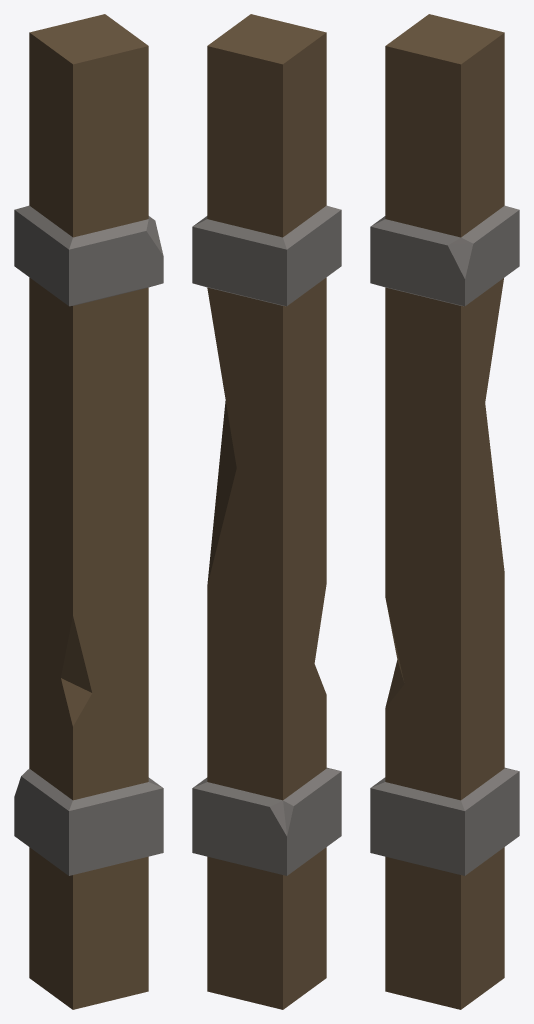
The model's file is SM_Prop_Beam_01.gltf.
The picture shows the model from 3 angles, left to right: view 1: azimuth 30°, elevation 25°; view 2: azimuth 150°, elevation 25°; view 3: azimuth 330°, elevation 25°; orthographic projection.
Parts seen in each view (by area): view 1: SM_Prop_Beam_01; view 2: SM_Prop_Beam_01; view 3: SM_Prop_Beam_01.
Boxes of the visible parts, left/top/right/bottom form: SM_Prop_Beam_01: left=14, top=14, right=163, bottom=1009; SM_Prop_Beam_01: left=192, top=14, right=341, bottom=1009; SM_Prop_Beam_01: left=370, top=14, right=519, bottom=1009.
Size of the model in its own units: 0.2608 by 2.49 by 0.2604.
Materials: 1 (1 with a texture image).
